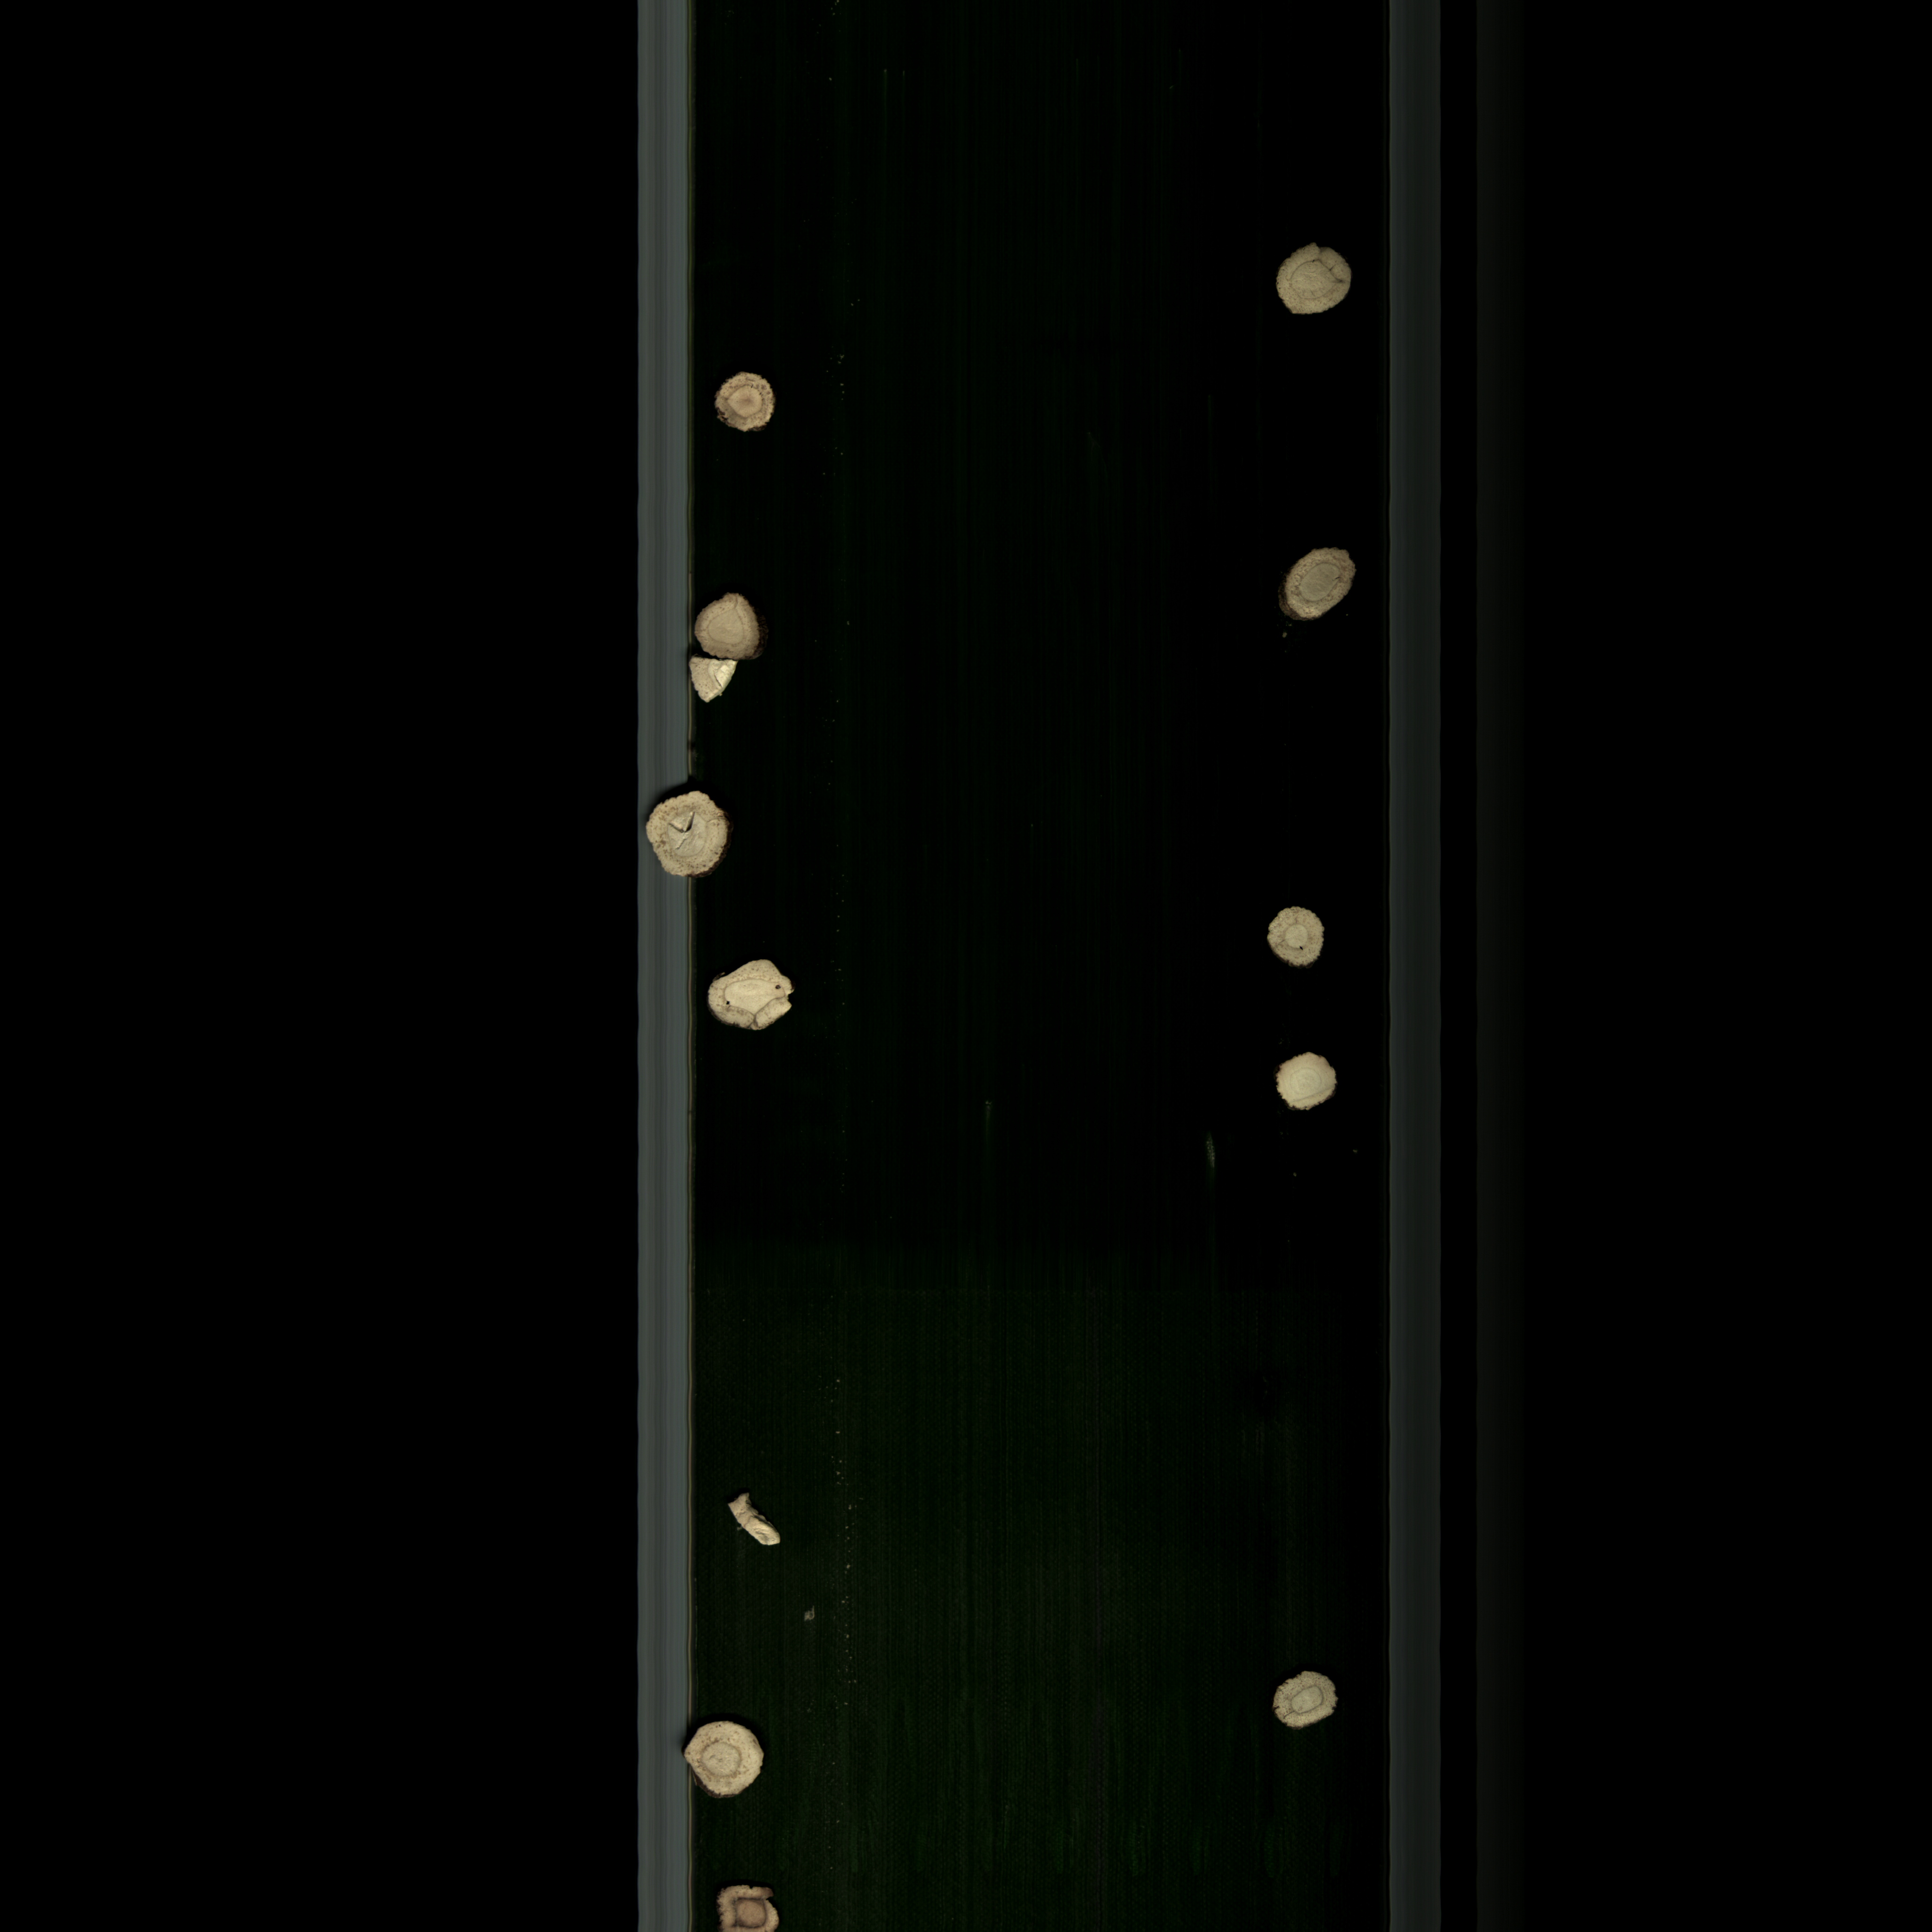distortion: (701, 962, 810, 1051), (1269, 543, 1368, 628), (717, 1484, 801, 1560)
dreg: (683, 655, 748, 718)
hole: (630, 789, 745, 906), (1235, 899, 1343, 982)
moldy: (709, 1865, 819, 1932), (704, 364, 787, 441), (688, 584, 775, 655)
